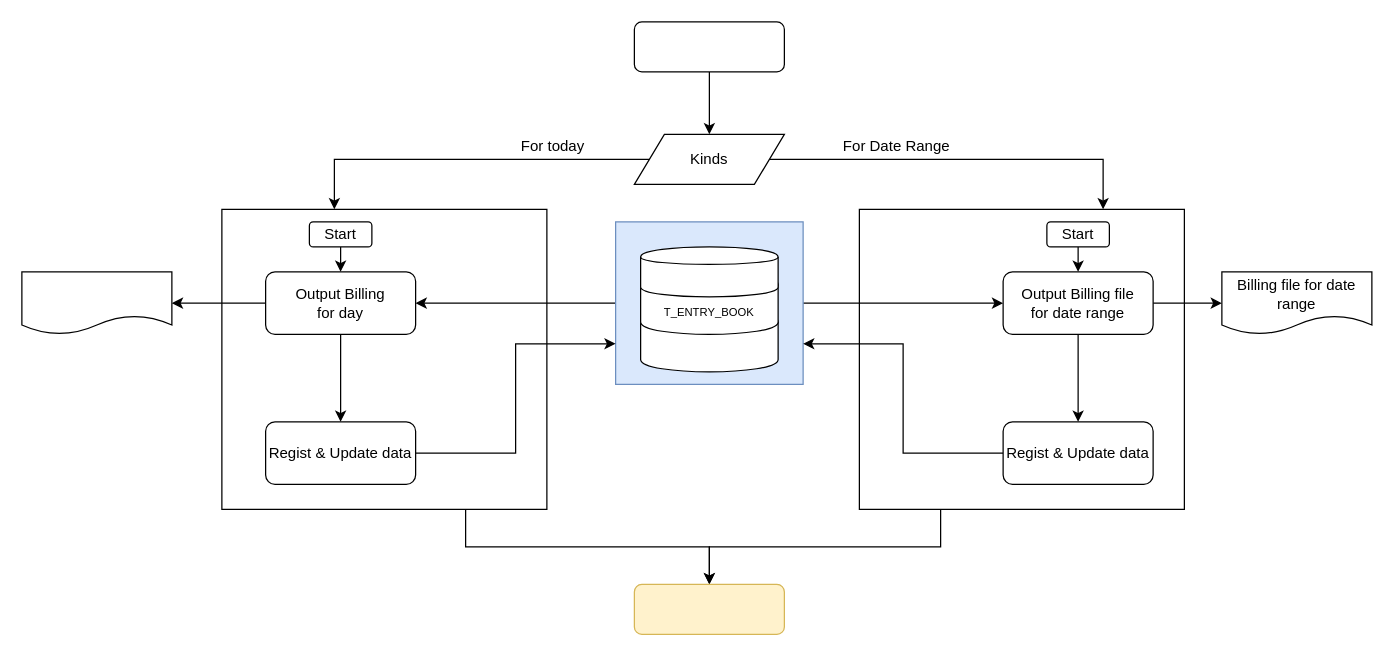
Image size: 1394x656. Some labels were removed from this diagram. The shapes that lost their labels are listed below. From the top down, each one's centre as x and y in pixels, then its label:
pixel 708 46: Call function
pixel 708 271: T_LOT_INFORMATION
pixel 96 302: Billing for day
pixel 708 340: Membership
pixel 708 608: End
